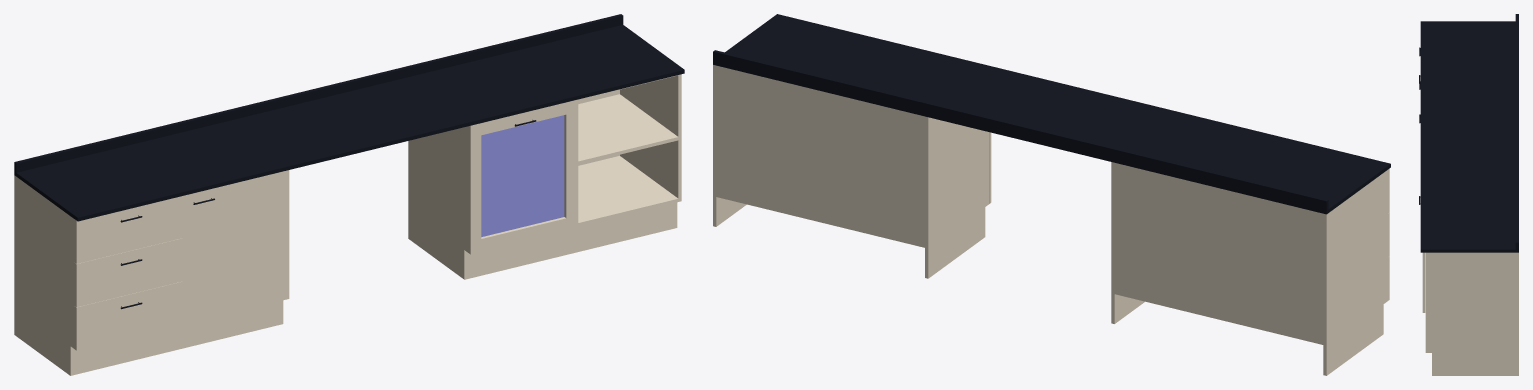
Rendered from cabinetsDuzgun.fbx.
The picture shows the model from 3 angles, left to right: view 1: azimuth 30°, elevation 25°; view 2: azimuth 150°, elevation 25°; view 3: azimuth 270°, elevation 25°; orthographic projection. The views are drawn at different scales.
Parts seen in each view (by area): view 1: Countertop3, Cabinet3_Door, Cabinet2_Door, Cabinet4, Countertop1, Countertop4, Countertop2, Cabinet1, Cabinet3, Drawer, Drawer.001, Drawer.002 (+4 smaller); view 2: Cabinet1, Cabinet3, Countertop3, Cabinet4, Cabinet2, Countertop1, Countertop2, Countertop4, Baseboard1, Baseboard3, Baseboard2, Baseboard4; view 3: Countertop3, Cabinet4, Countertop4, Countertop2, Countertop1, Baseboard4, Cabinet3_Door.
Boxes of the visible parts, x1=… form: Countertop3: x1=227, y1=40, x2=578, y2=169; Cabinet3_Door: x1=468, y1=100, x2=576, y2=254; Cabinet2_Door: x1=183, y1=170, x2=289, y2=324; Cabinet4: x1=577, y1=74, x2=681, y2=226; Countertop1: x1=14, y1=136, x2=184, y2=221; Countertop4: x1=515, y1=14, x2=684, y2=99; Countertop2: x1=121, y1=110, x2=290, y2=195; Cabinet1: x1=14, y1=175, x2=74, y2=348; Cabinet3: x1=408, y1=126, x2=468, y2=252; Drawer: x1=74, y1=281, x2=182, y2=350; Drawer.001: x1=74, y1=238, x2=182, y2=307; Drawer.002: x1=74, y1=196, x2=182, y2=263; Cabinet1: x1=1219, y1=170, x2=1387, y2=345; Cabinet3: x1=820, y1=91, x2=989, y2=248; Countertop3: x1=820, y1=40, x2=1175, y2=161; Cabinet4: x1=713, y1=65, x2=820, y2=222; Cabinet2: x1=1111, y1=162, x2=1218, y2=319; Countertop1: x1=1219, y1=137, x2=1390, y2=214; Countertop2: x1=1111, y1=111, x2=1282, y2=187; Countertop4: x1=713, y1=14, x2=884, y2=90; Baseboard1: x1=1323, y1=304, x2=1383, y2=375; Baseboard3: x1=925, y1=207, x2=985, y2=278; Baseboard2: x1=1111, y1=293, x2=1144, y2=323; Baseboard4: x1=713, y1=196, x2=746, y2=226; Countertop3: x1=1420, y1=94, x2=1518, y2=209; Cabinet4: x1=1425, y1=252, x2=1518, y2=352; Countertop4: x1=1420, y1=202, x2=1518, y2=252; Countertop2: x1=1420, y1=54, x2=1518, y2=101; Countertop1: x1=1420, y1=14, x2=1518, y2=61; Baseboard4: x1=1432, y1=353, x2=1518, y2=375; Cabinet3_Door: x1=1422, y1=252, x2=1425, y2=312.
Bounding box in the file's own units: 342 × 93 × 63.05.
